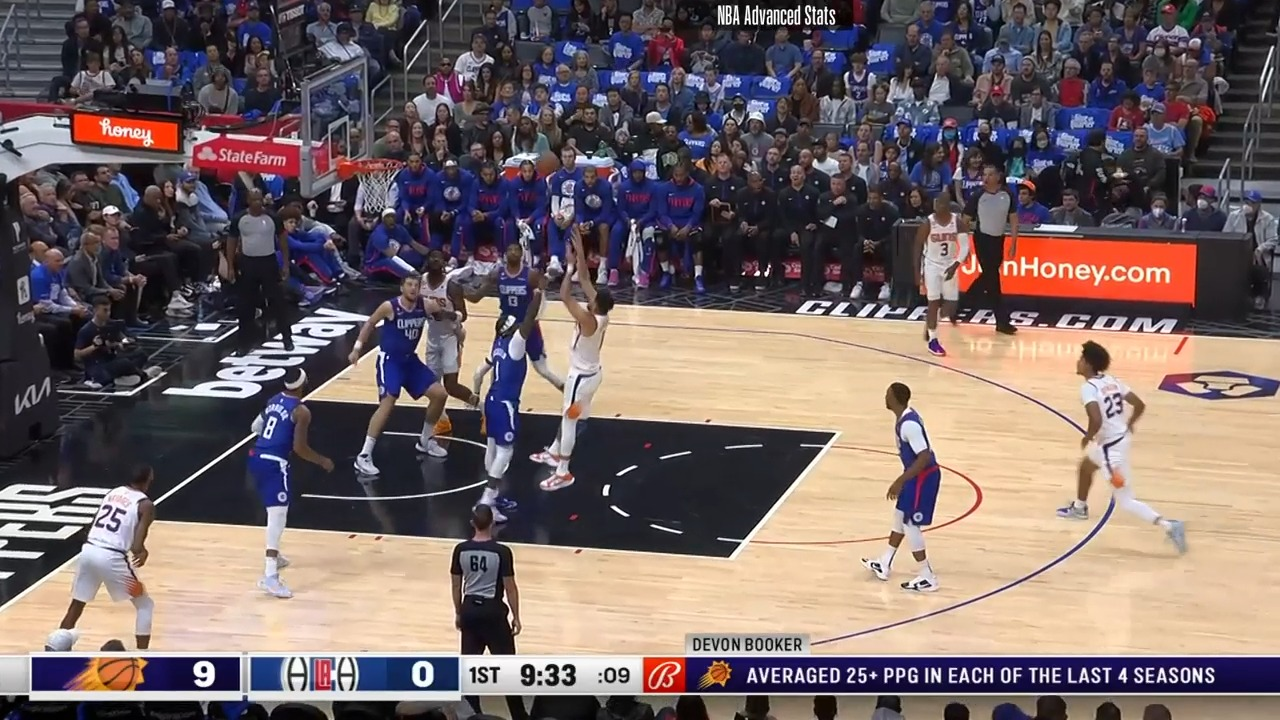net: (335, 153, 403, 209)
player: (1065, 342, 1190, 559), (528, 221, 615, 490), (50, 459, 167, 650), (246, 365, 334, 601), (349, 274, 449, 480), (475, 297, 566, 517), (467, 243, 569, 401), (867, 383, 941, 598), (412, 252, 481, 461), (918, 197, 977, 361)
referee: (223, 187, 302, 359), (442, 505, 519, 658), (960, 163, 1023, 336)
